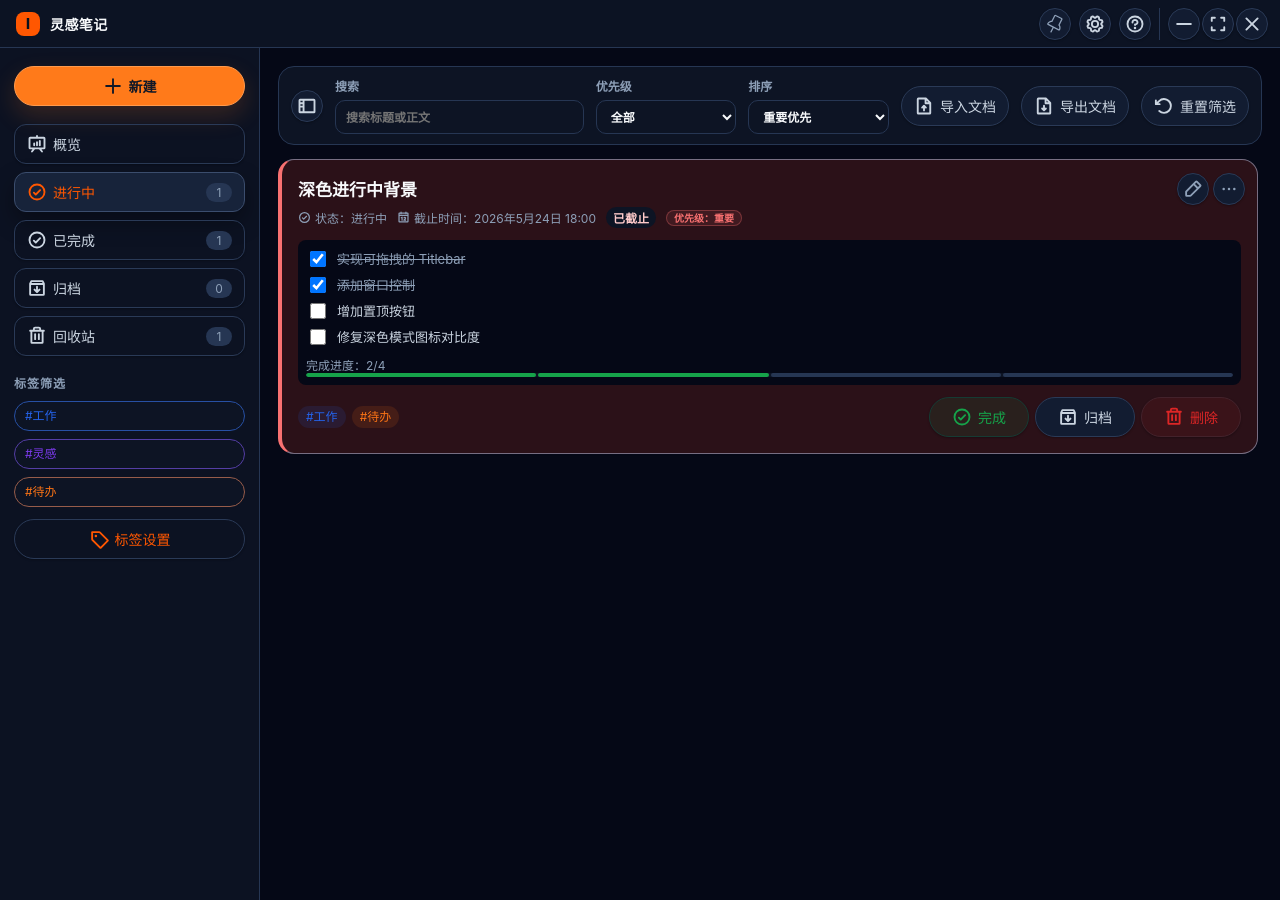
Test case: App theme modes › 暗色模式的笔记状态页面不使用 settings 背景内联样式
The image size is (1280, 900).
Expected: the button "深色进行中背景" is shown, [298,176,1181,201]
Click the button "已完成 1". click: (130, 240)
box: [14,220,245,260]
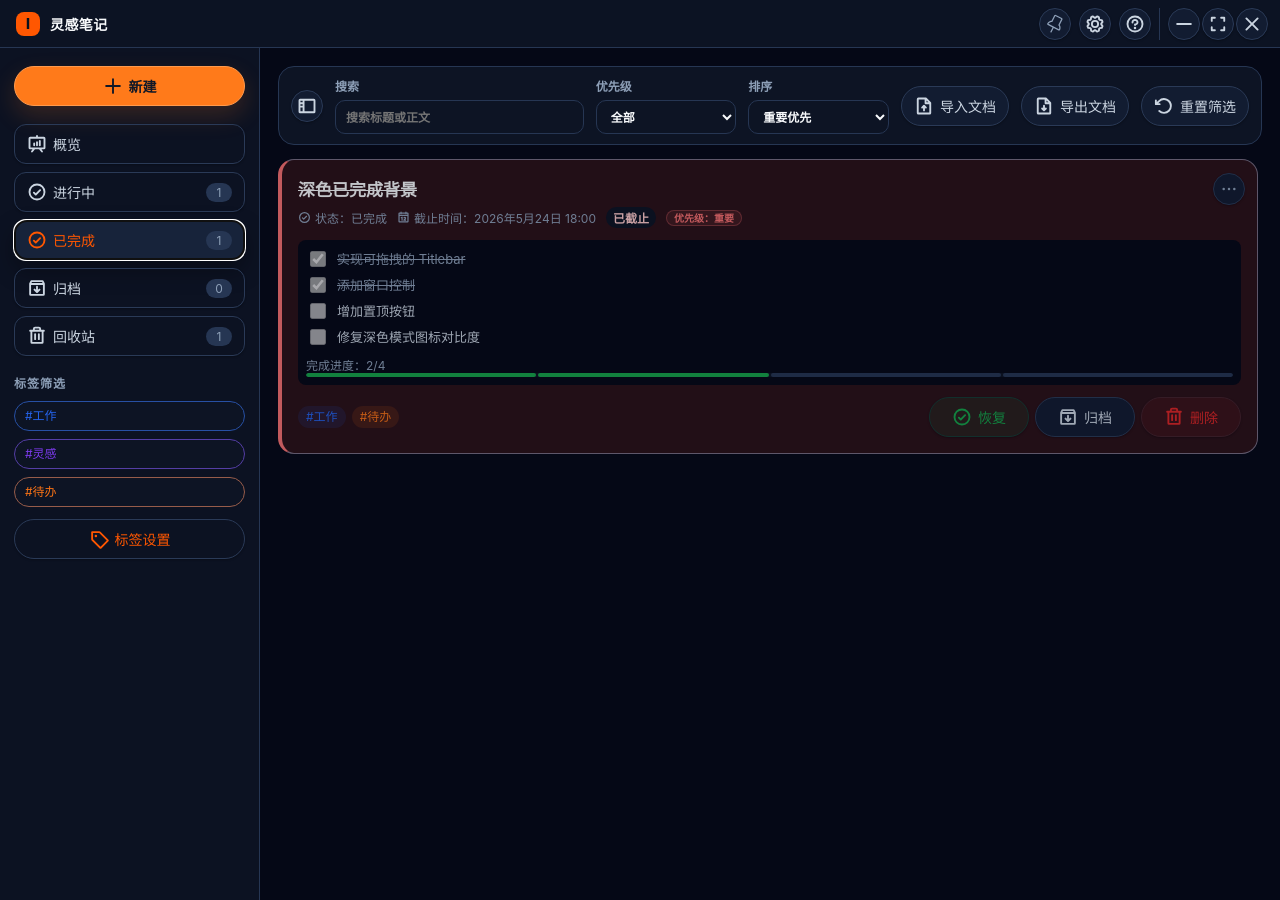
Expected: the heading "深色已完成背景" is shown, [298,180,417,200]
Click the button "回收站 1". click: (130, 336)
box: [14,316,245,356]
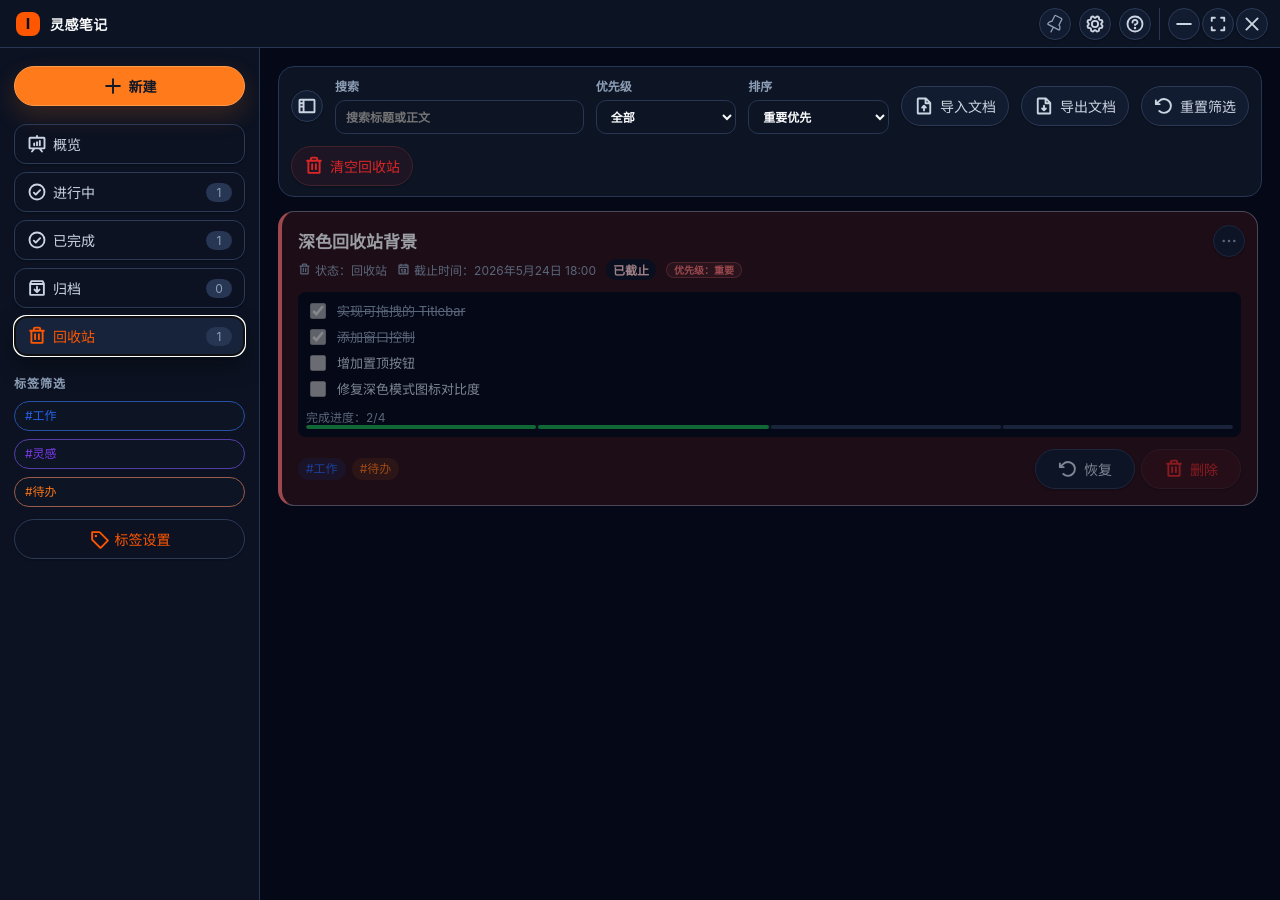
Expected: the heading "深色回收站背景" is shown, [298,232,417,252]
